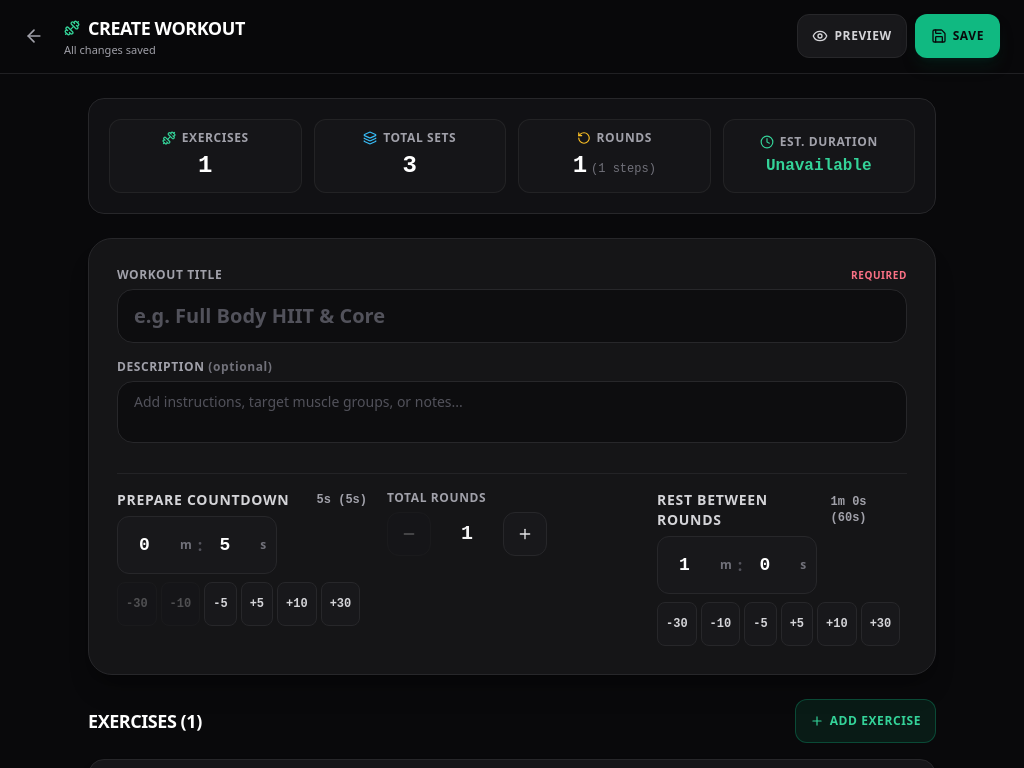
WorkoutBuilder Component › displays validation errors and prevents save if title is empty
The width and height of the screenshot is (1024, 768).
Title is empty by default
Click the button with aria-label "save workout" at {"x": 957, "y": 36}, box [915,14,1000,58]
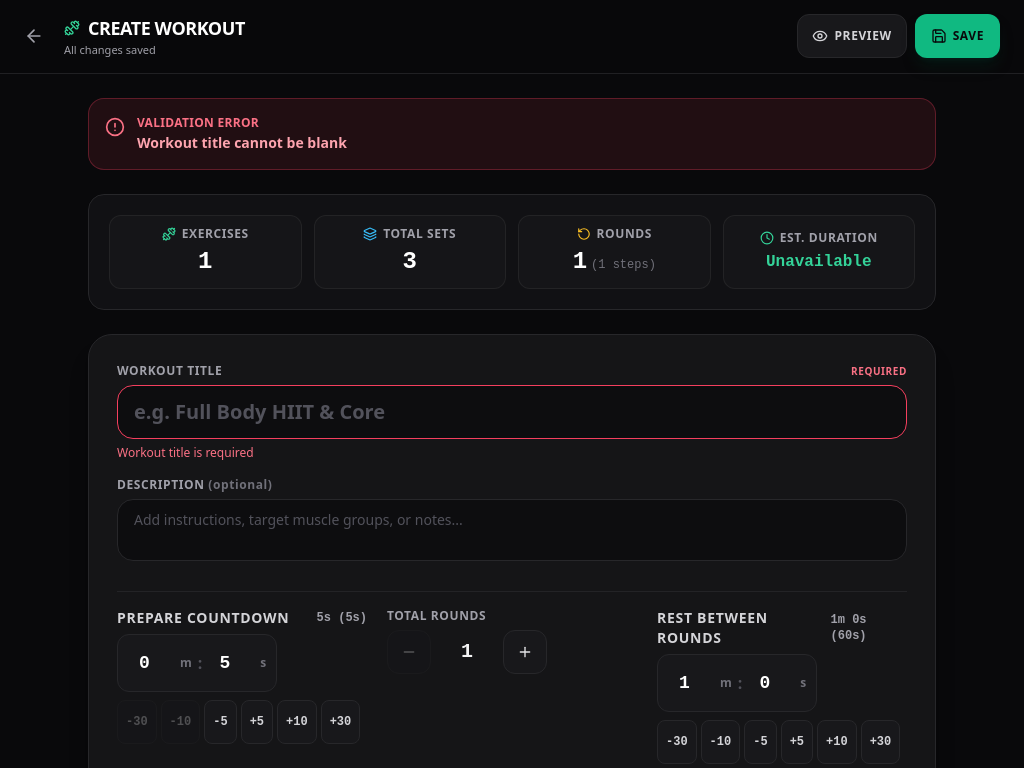
expect the message "Validation Error Workout title cannot be blank" is shown: met, box [88,98,936,170]
expect the text "Workout title cannot be blank" is shown: met, box [137,132,347,152]
